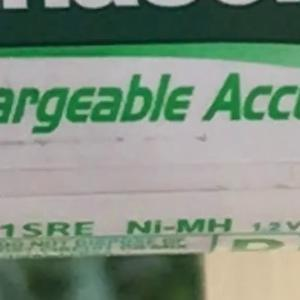NI-MH: (118, 209, 241, 243)
